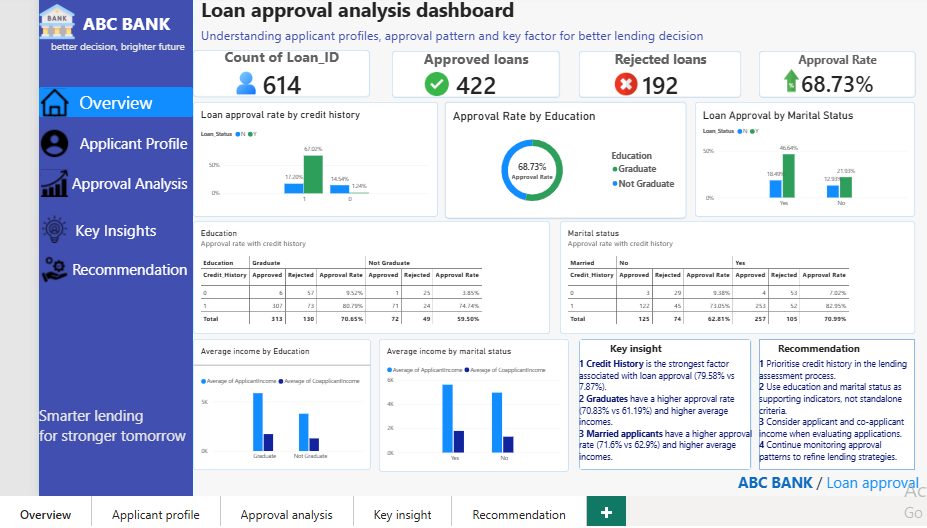

Layout of this report page (visuals, bound fields, positions):
{"tool":"powerbi","page":{"name":"Overview","canvas":[1920,1080],"ordinal":0},"visuals":[{"type":"cardVisual","fields":{"Data":["CountNonNull(WORKSHEET.Loan_Status)"]},"box":[763.5,118.4,362.8,100.8],"z":0},{"type":"cardVisual","fields":{"Data":["CountNonNull(WORKSHEET.Loan_Status)"]},"box":[1166.6,118.4,350.2,100.8],"z":1000},{"type":"cardVisual","fields":{"Data":["WORKSHEET.Approval Rate"]},"box":[1554.6,118.4,337.6,100.8],"z":2000},{"type":"cardVisual","fields":{"Data":["CountNonNull(WORKSHEET.Loan_ID)"]},"box":[332.6,116.6,382.3,101.5],"z":3000},{"type":"clusteredColumnChart","title":"Loan approval rate by credit history","fields":{"Category":["WORKSHEET.Credit_History"],"Series":["WORKSHEET.Loan_Status"],"Y":["CountNonNull(WORKSHEET.Loan_ID)"]},"box":[332,228,529.2,248.4],"z":4000},{"type":"donutChart","fields":{"Category":["WORKSHEET.Education"],"Y":["WORKSHEET.Approval Rate"]},"box":[877,229,520.6,250.6],"z":5000},{"type":"clusteredColumnChart","title":"Loan Approval by Marital Status","fields":{"Category":["WORKSHEET.Married"],"Series":["WORKSHEET.Loan_Status"],"Y":["CountNonNull(WORKSHEET.Loan_ID)"]},"box":[1417,229,475.2,248.4],"z":6000},{"type":"pivotTable","title":"Education ","fields":{"Columns":["WORKSHEET.Education"],"Rows":["WORKSHEET.Credit_History"],"Values":["WORKSHEET.Approved","WORKSHEET.Rejected","WORKSHEET.Approval Rate"]},"box":[332.6,486,771.1,244.1],"z":7000},{"type":"clusteredColumnChart","title":"Average income by Education","fields":{"Category":["WORKSHEET.Education"],"Y":["Avg(WORKSHEET.ApplicantIncome)","Avg(WORKSHEET.CoapplicantIncome)"]},"box":[332.6,740,384.5,283],"z":8000},{"type":"clusteredColumnChart","title":"Average income by marital status","fields":{"Category":["WORKSHEET.Married"],"Y":["Avg(WORKSHEET.ApplicantIncome)","Avg(WORKSHEET.CoapplicantIncome)"]},"box":[734.4,740.9,410.4,287.3],"z":9000},{"type":"textbox","box":[350,0,1016,66],"z":10000},{"type":"textbox","box":[350,66,1204,52],"z":11000},{"type":"textbox","box":[1509.8,1028.2,410.4,51.8],"z":12000},{"type":"shape","box":[0,0,332.6,1080.9],"z":13000},{"type":"textbox","box":[95,32.4,237.6,60.5],"z":14000},{"type":"textbox","box":[25.2,93.2,307.4,55.4],"z":15000},{"type":"textbox","box":[0,883.4,332.6,166.3],"z":16000},{"type":"pivotTable","title":"Marital status","fields":{"Columns":["WORKSHEET.Married"],"Rows":["WORKSHEET.Credit_History"],"Values":["WORKSHEET.Approved","WORKSHEET.Rejected","WORKSHEET.Approval Rate"]},"box":[1125.4,486,766.8,244.1],"z":17000},{"type":"shape","box":[1166.4,740.9,371.5,283],"z":18000},{"type":"textbox","box":[1166.4,781.9,388.8,241.9],"z":19000},{"type":"textbox","box":[1233.4,745.2,131.8,36.7],"z":20000},{"type":"shape","box":[1555.2,740.9,337,283],"z":21000},{"type":"textbox","box":[1555.2,781.9,337,241.9],"z":22000},{"type":"textbox","box":[1596.2,745.2,226.8,36.7],"z":23000},{"type":"image","box":[0,17.3,77.8,75.6],"z":24000},{"type":"image","box":[410.4,163,73.4,51.8],"z":25000},{"type":"image","box":[828,165,64.8,51.8],"z":26000},{"type":"image","box":[1232,165,73.4,51.8],"z":27000},{"type":"image","box":[1596.2,146,58.3,71.3],"z":28000},{"type":"actionButton","box":[0,196.6,332.6,64.8],"z":29000},{"type":"actionButton","box":[0,283,332.6,71.3],"z":30000},{"type":"actionButton","box":[0,370,332.6,71.3],"z":32000},{"type":"actionButton","box":[0,468,332.6,71.3],"z":33000},{"type":"actionButton","box":[0,556,332.6,71.3],"z":34000}]}

Visuals, with their boxes on the page's 1920x1080 design canvas (x1, y1, x2, y2). These are canvas units, not pixel positions in the 927x528 screenshot, which may show the page scaled, cropped or inside an application window:
cardVisual - CountNonNull(WORKSHEET.Loan_Status): 764 118 1126 219
cardVisual - CountNonNull(WORKSHEET.Loan_Status): 1167 118 1517 219
cardVisual - WORKSHEET.Approval Rate: 1555 118 1892 219
cardVisual - CountNonNull(WORKSHEET.Loan_ID): 333 117 715 218
"Loan approval rate by credit history" clusteredColumnChart: 332 228 861 476
donutChart - WORKSHEET.Education x WORKSHEET.Approval Rate: 877 229 1398 480
"Loan Approval by Marital Status" clusteredColumnChart: 1417 229 1892 477
"Education " pivotTable: 333 486 1104 730
"Average income by Education" clusteredColumnChart: 333 740 717 1023
"Average income by marital status" clusteredColumnChart: 734 741 1145 1028
textbox: 350 0 1366 66
textbox: 350 66 1554 118
textbox: 1510 1028 1920 1080
shape: 0 0 333 1081
textbox: 95 32 333 93
textbox: 25 93 333 149
textbox: 0 883 333 1050
"Marital status" pivotTable: 1125 486 1892 730
shape: 1166 741 1538 1024
textbox: 1166 782 1555 1024
textbox: 1233 745 1365 782
shape: 1555 741 1892 1024
textbox: 1555 782 1892 1024
textbox: 1596 745 1823 782
image: 0 17 78 93
image: 410 163 484 215
image: 828 165 893 217
image: 1232 165 1305 217
image: 1596 146 1654 217
actionButton: 0 197 333 261
actionButton: 0 283 333 354
actionButton: 0 370 333 441
actionButton: 0 468 333 539
actionButton: 0 556 333 627
